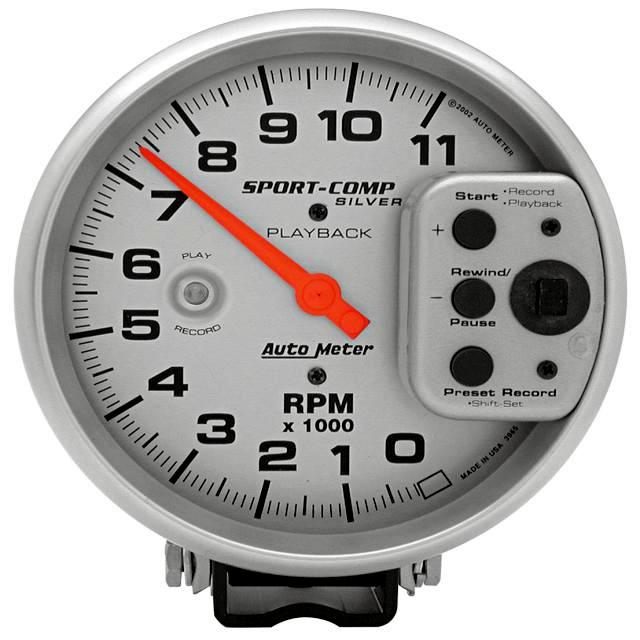Needle_Tip: (105, 140, 187, 174)
Needle_base: (287, 260, 352, 330)
max_value: (404, 128, 471, 178)
min_value: (379, 424, 435, 476)
